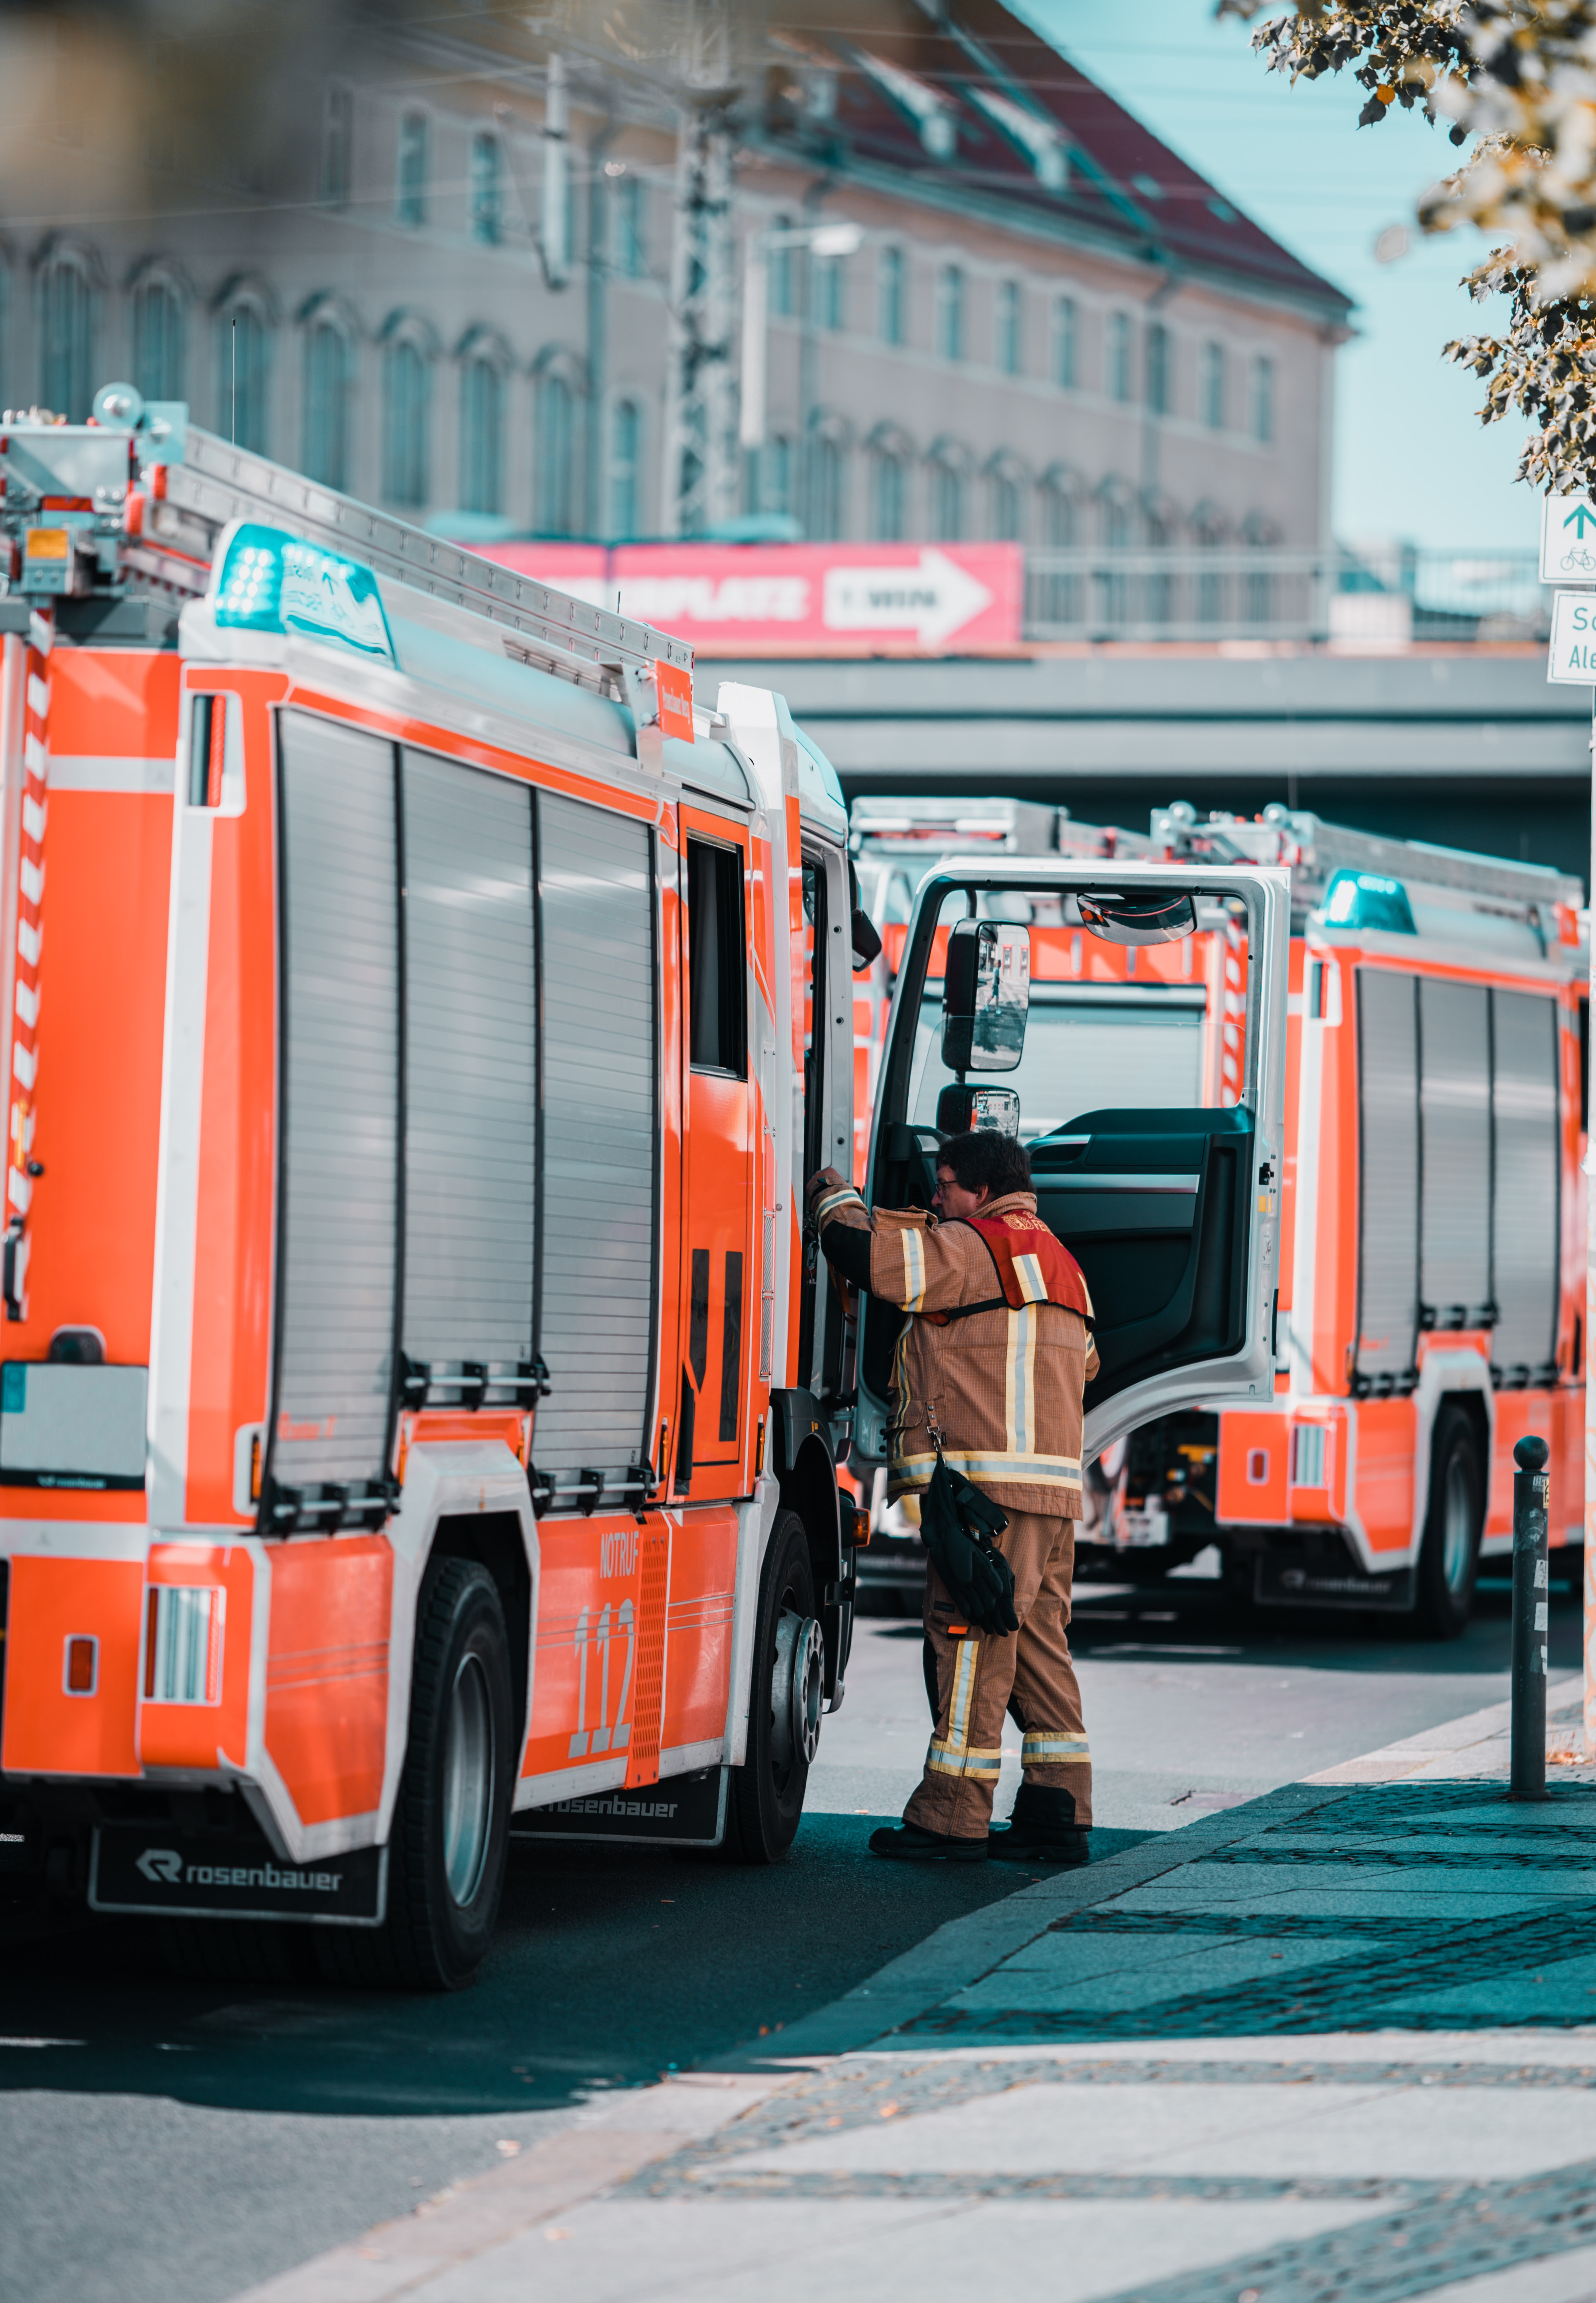emergent: (808, 1141, 1134, 1890)
